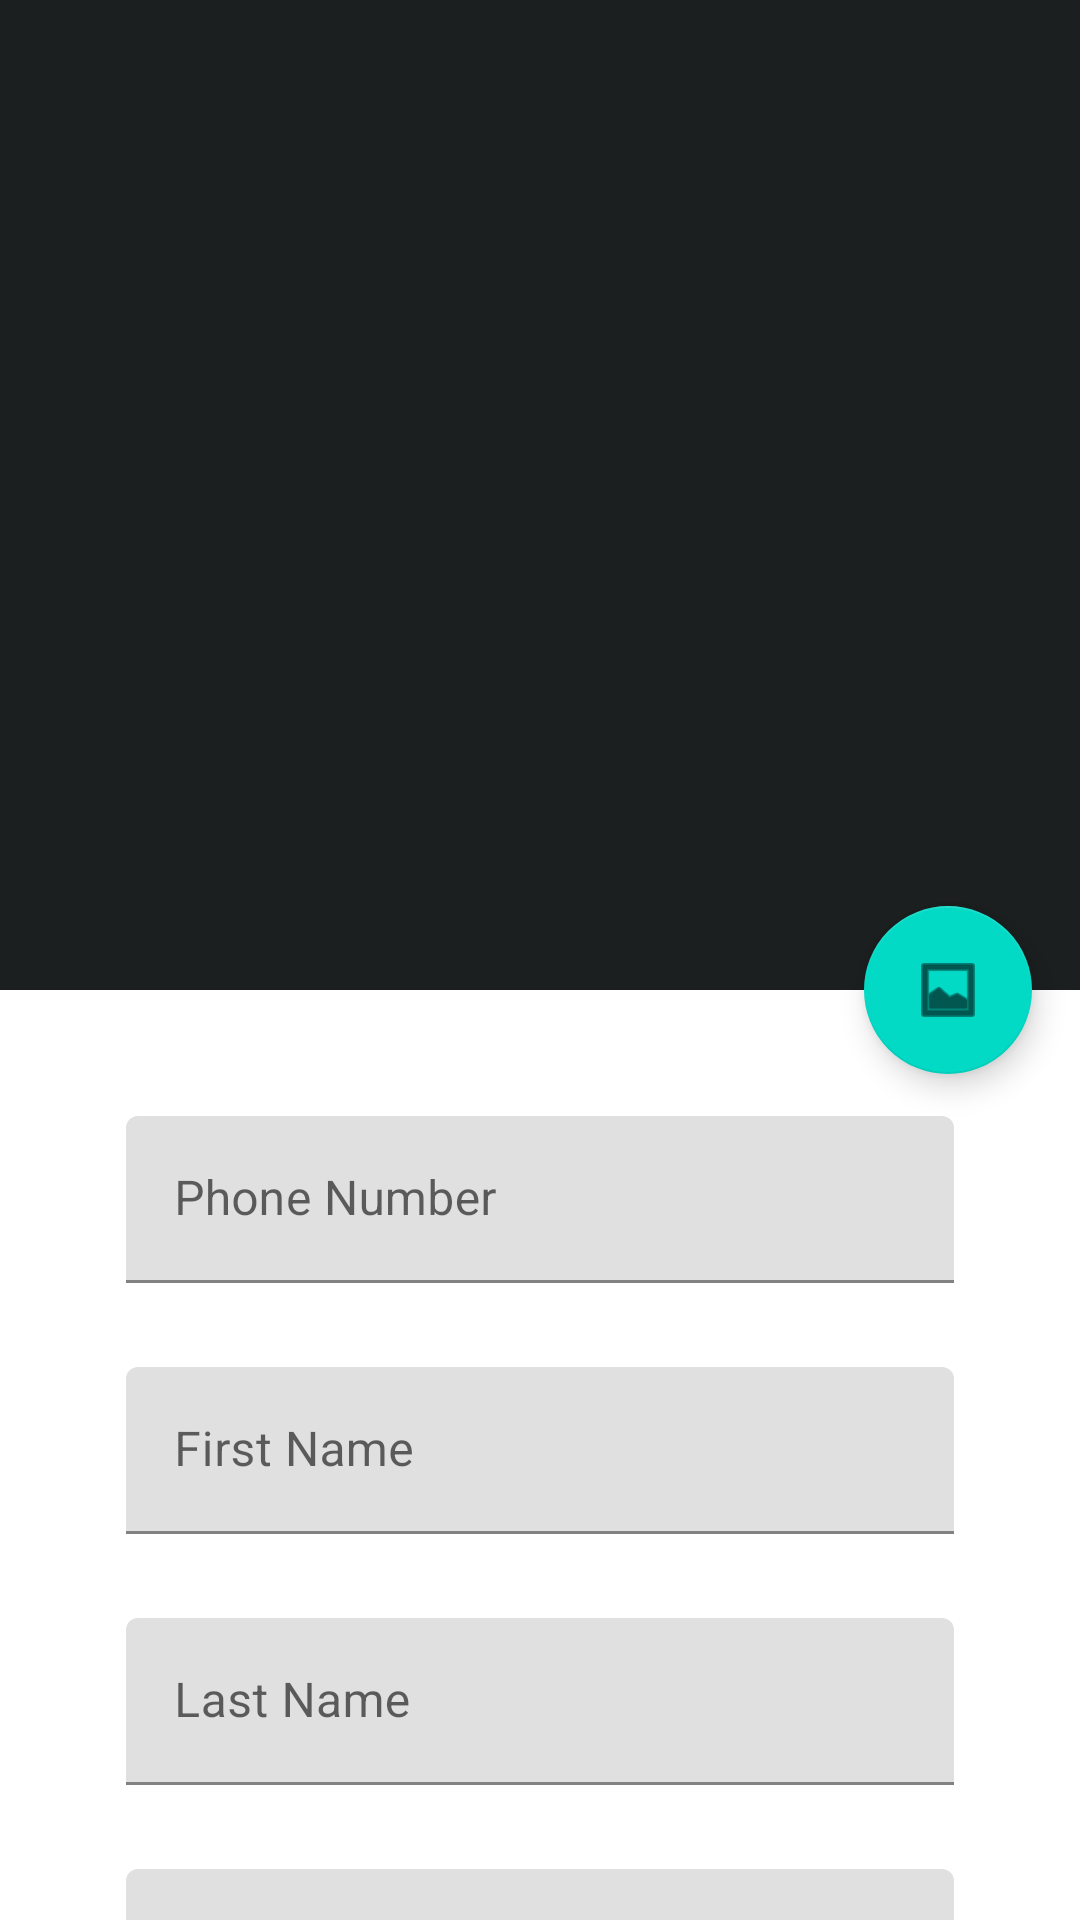

Point at icon controls on the screen. Image size 1080×1920, points as (x=x, y=y).
gallery: (x=948, y=990)
